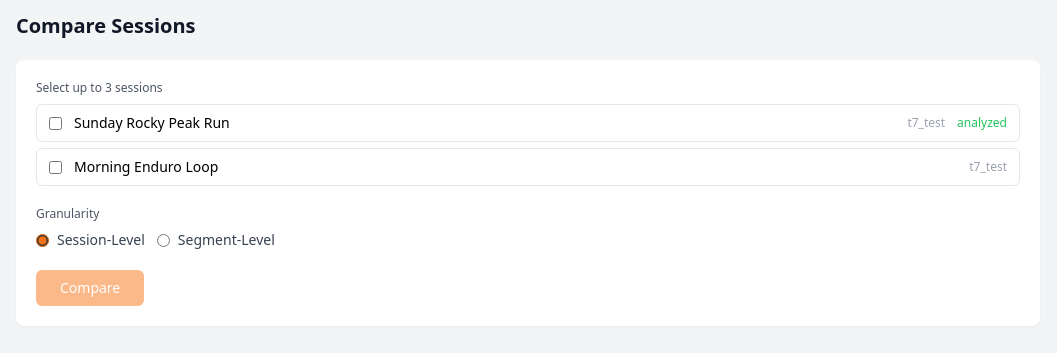
Test: ComparePage › shows segment duration input when segment granularity is selected
Click the radio button labelled "segment-level": [163, 240] box [157,234,170,246]
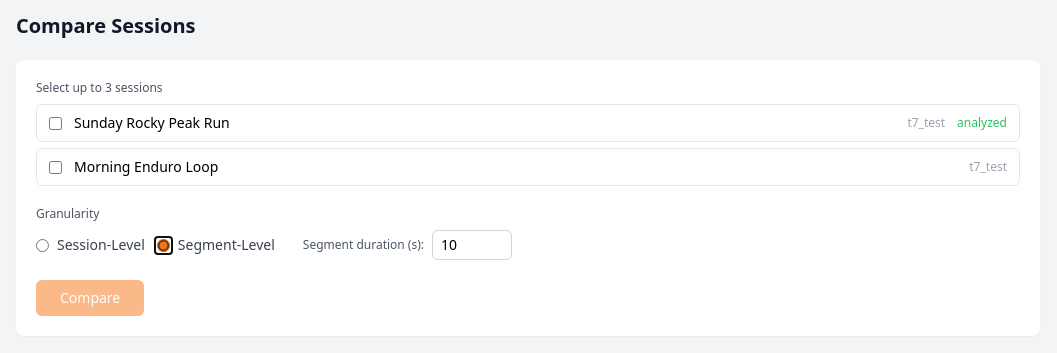
Expected: the number field is shown, [432,230,512,260]
